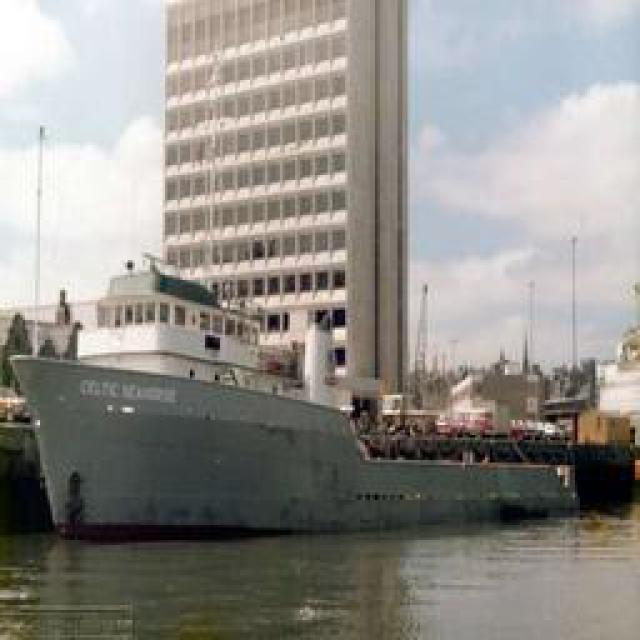Ship: (14, 356, 609, 536)
